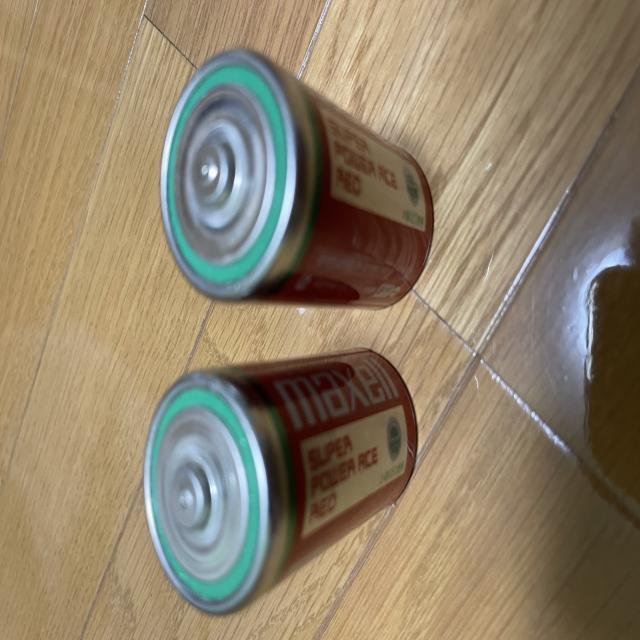hazardous waste: (131, 344, 432, 616), (147, 45, 436, 318)
